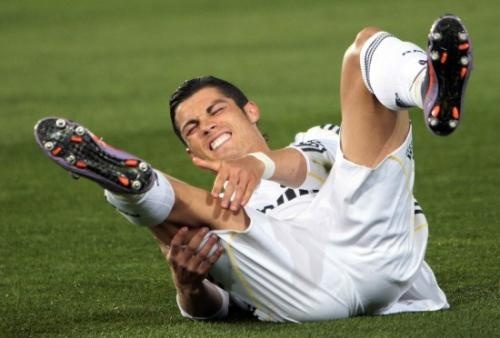falling: (29, 0, 470, 335)
